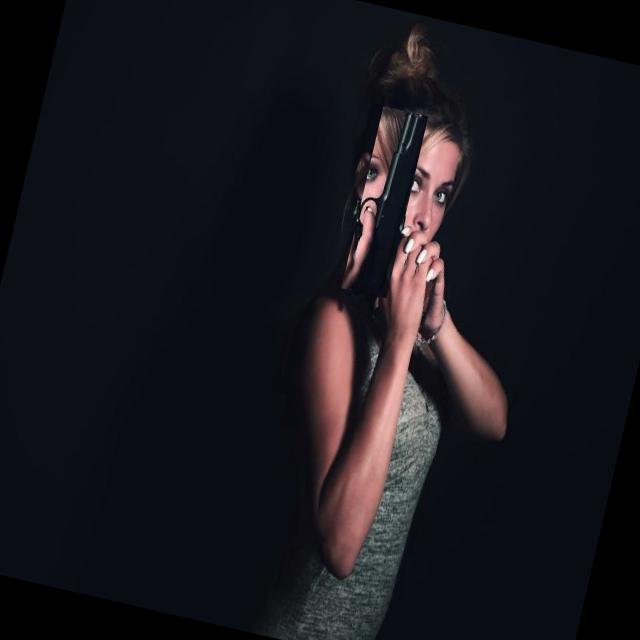Gun: (354, 112, 425, 296)
